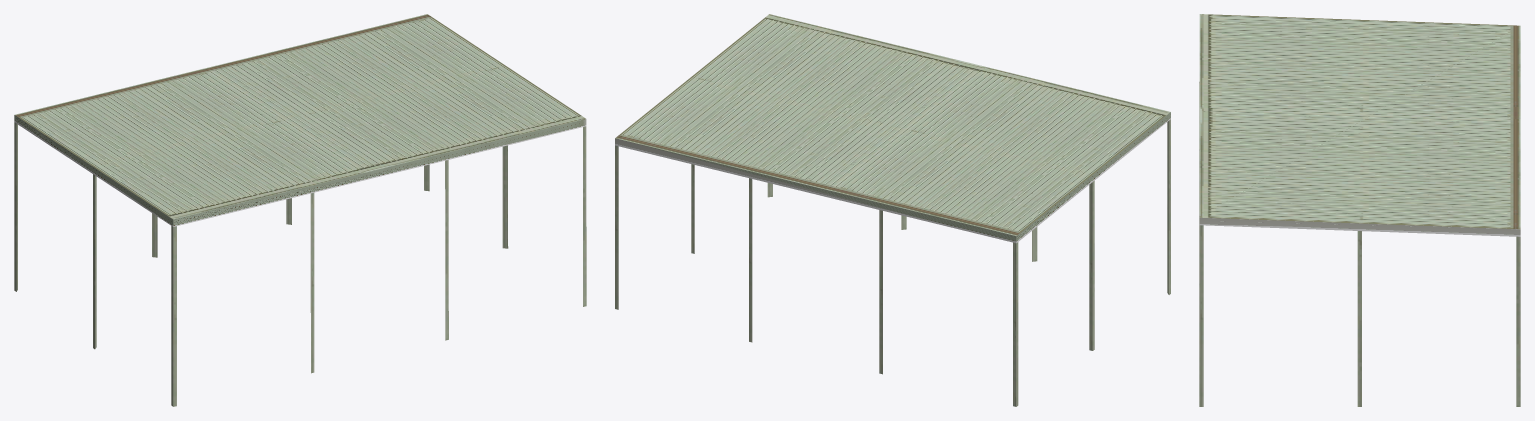
Rendered from shelter-15x10x3-cbj_LOD01.gltf.
The picture shows the model from 3 angles, left to right: view 1: azimuth 30°, elevation 25°; view 2: azimuth 150°, elevation 25°; view 3: azimuth 270°, elevation 25°; orthographic projection. The views are drawn at different scales.
Visible parts, largest first — view 1: Cube.001; view 2: Cube.001; view 3: Cube.001.
Part boxes in pixels (box(x1,y1,x2,y2)): Cube.001: box(14, 14, 586, 406); Cube.001: box(615, 14, 1170, 406); Cube.001: box(1199, 14, 1520, 406).
Size of the model in its own units: 15 by 6.5 by 10.
